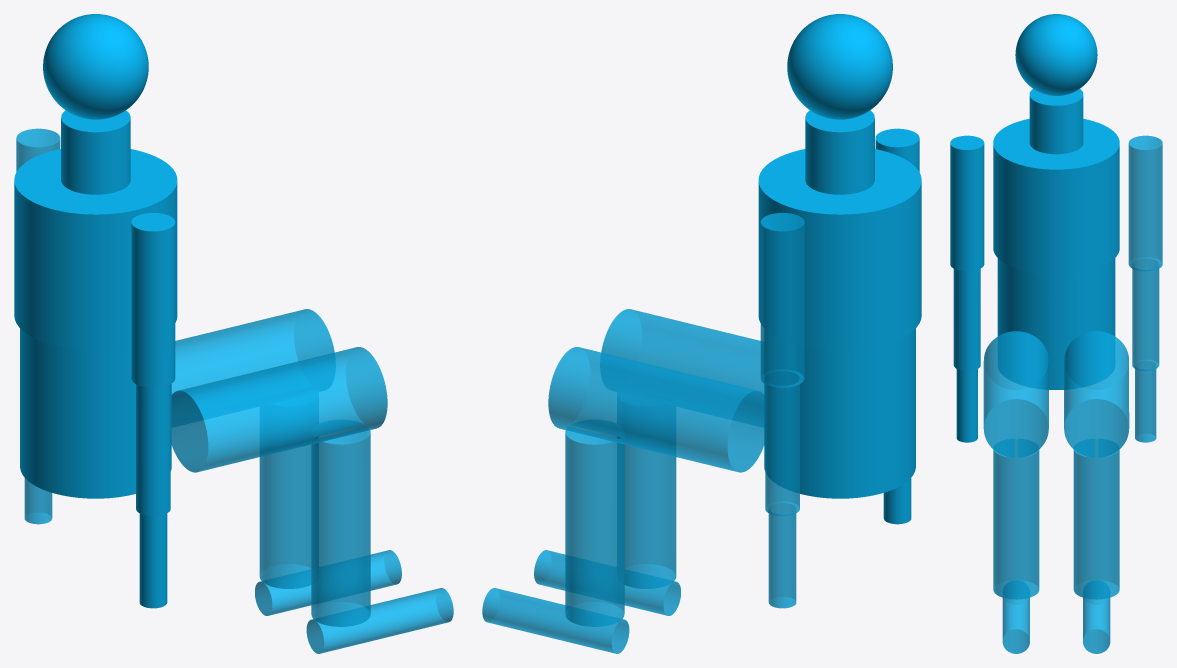
File: blocky_human.glb
3 views of the same model, side by side, from view 1: azimuth 30°, elevation 25°; view 2: azimuth 150°, elevation 25°; view 3: azimuth 270°, elevation 25° (orthographic). The views are drawn at different scales.
Visible parts, largest first — view 1: 实体 (×8); view 2: 实体 (×8); view 3: 实体 (×8).
Part boxes in pixels (x1,y1,x2,y2): 实体 (×8): (14, 14, 453, 653); 实体 (×8): (482, 14, 921, 653); 实体 (×8): (950, 14, 1162, 653).
Size of the model in its own units: 0.7908 by 1.27 by 0.4764.
